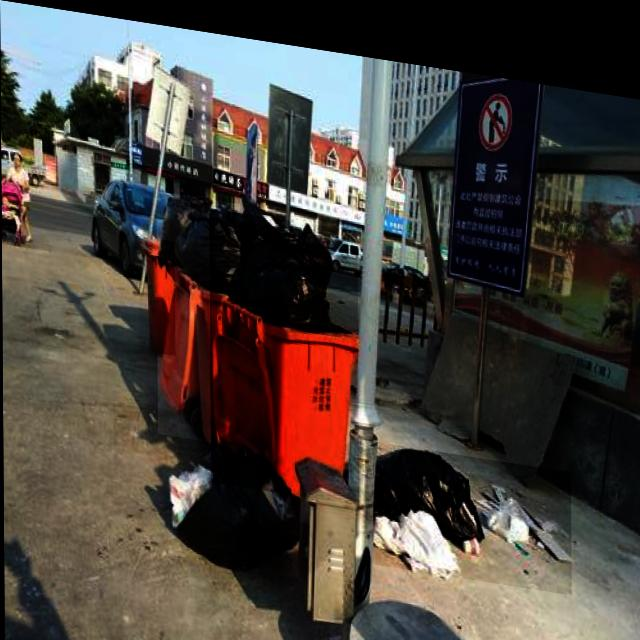garbage: (372, 429, 571, 577), (166, 430, 297, 568)
garbage_bin: (138, 232, 175, 350)
overflow: (209, 201, 358, 494), (156, 186, 242, 439)
